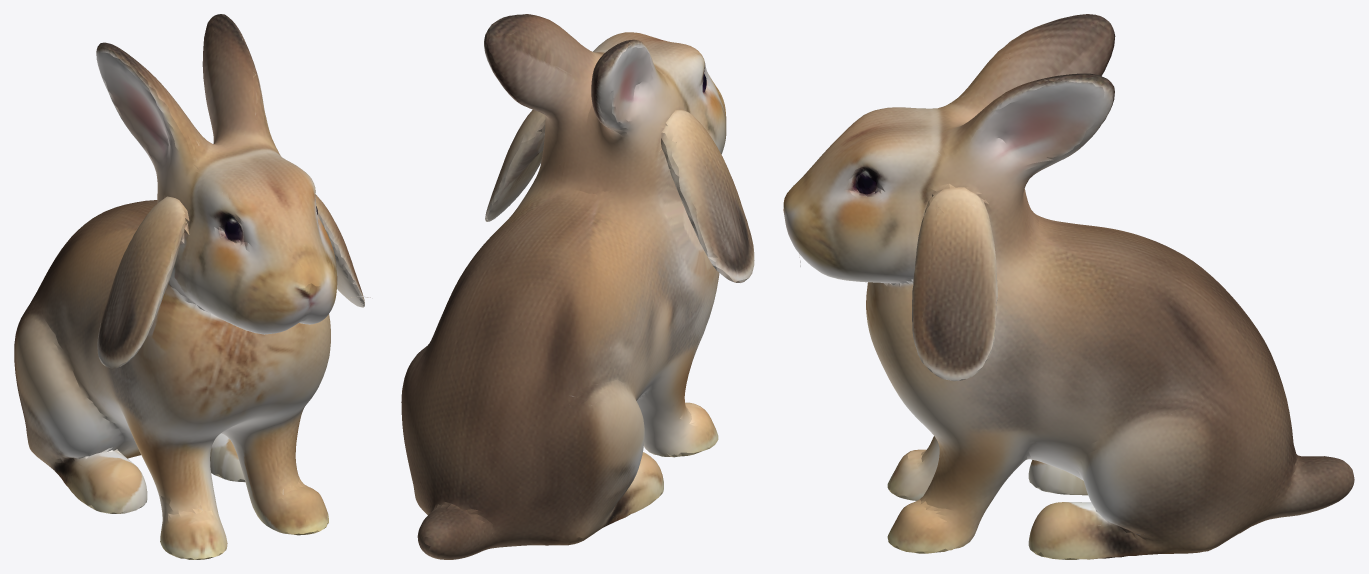
File: rabbit.glb
3 views of the same model, side by side, from view 1: azimuth 30°, elevation 25°; view 2: azimuth 150°, elevation 25°; view 3: azimuth 270°, elevation 25° (orthographic). The views are drawn at different scales.
Visible parts, largest first — view 1: model; view 2: model; view 3: model.
Part boxes in pixels (<box>): model: <box>14,14,370,559</box>; model: <box>401,14,754,559</box>; model: <box>783,14,1354,559</box>.
Bounding box in the file's own units: 1.01 × 1.71 × 1.88.
1 material, 1 textured.
